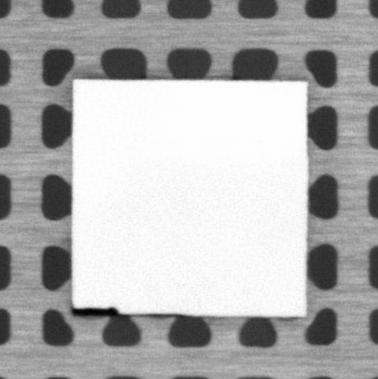DIE_BROKEN: (70, 305, 122, 316)
